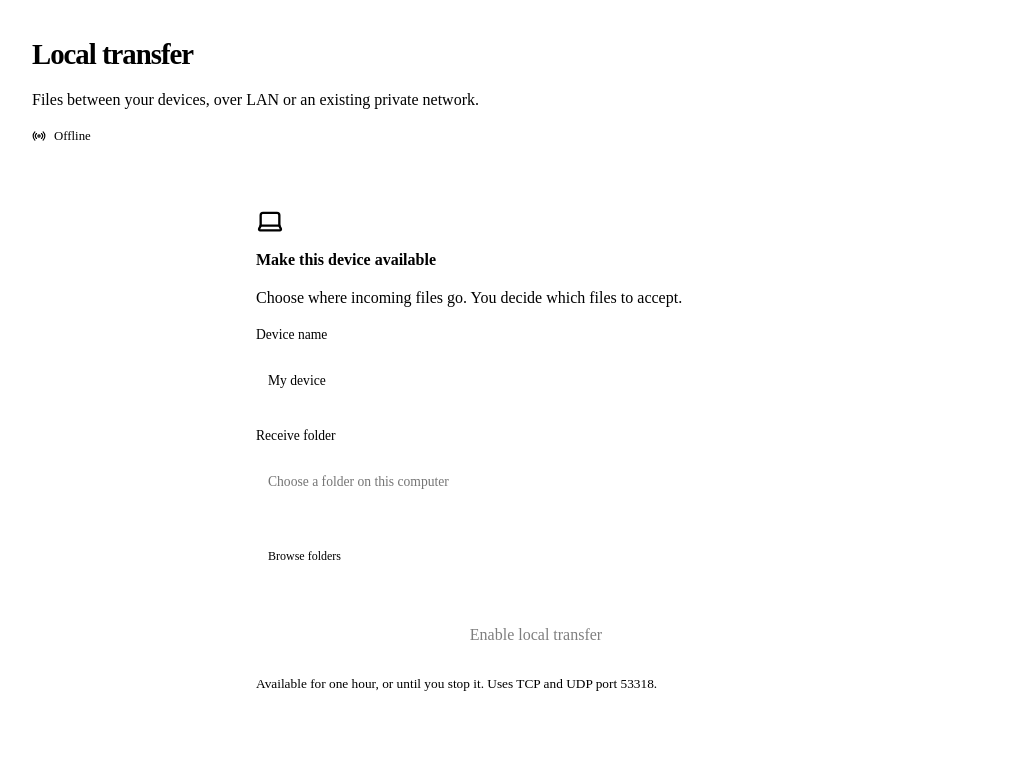
Test: stays off until a receive folder is chosen and sharing is enabled
This screenshot has width=1036, height=768.
Expected: the button "Enable local transfer" is disabled, [256,613,816,657]
Type "/downloads" into the field labelled "Receive folder" at (548, 482), box [256,451,840,513]
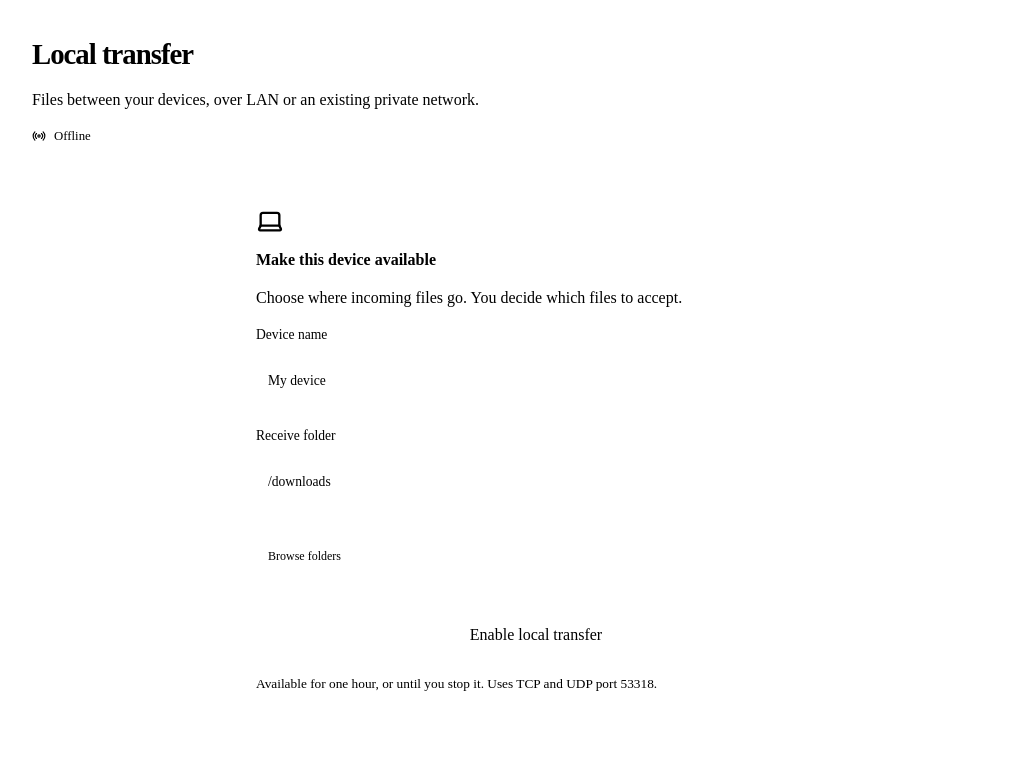
Click the button "Enable local transfer" at (536, 635), box [256,613,816,657]
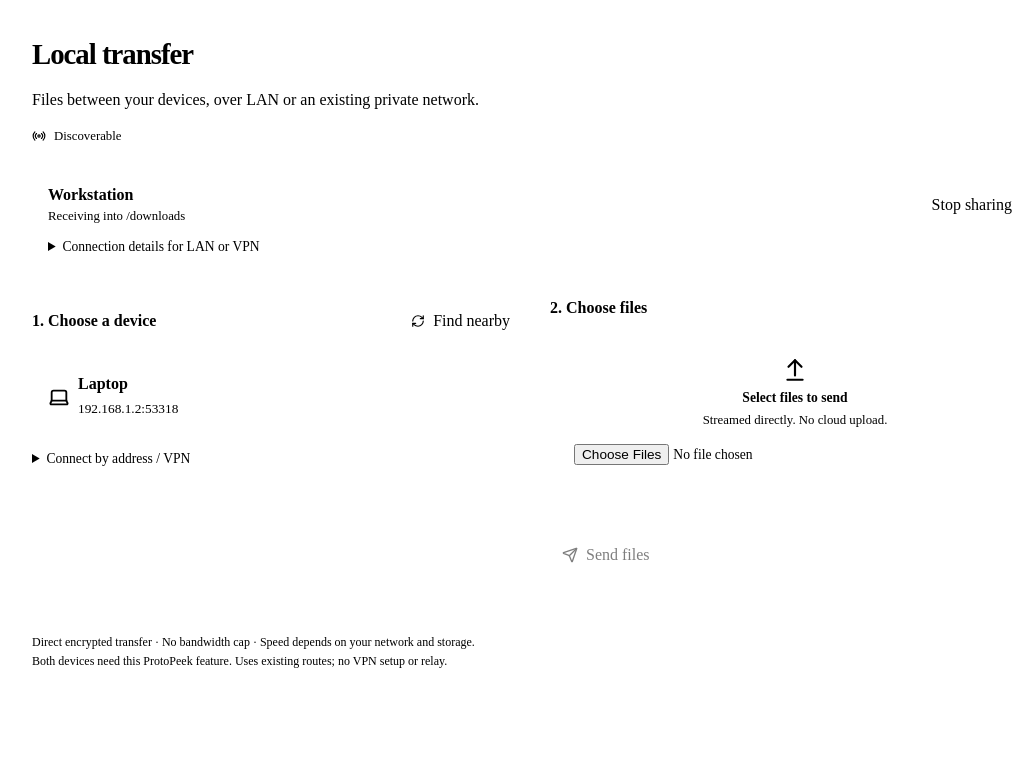
Expected: the text "Discoverable" is shown, [32,129,122,144]
